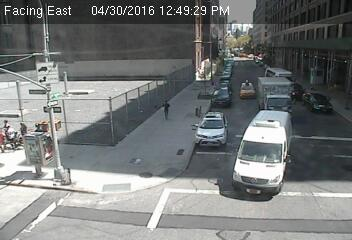neg: (341, 95, 351, 120), (212, 60, 225, 78), (204, 85, 211, 95)
